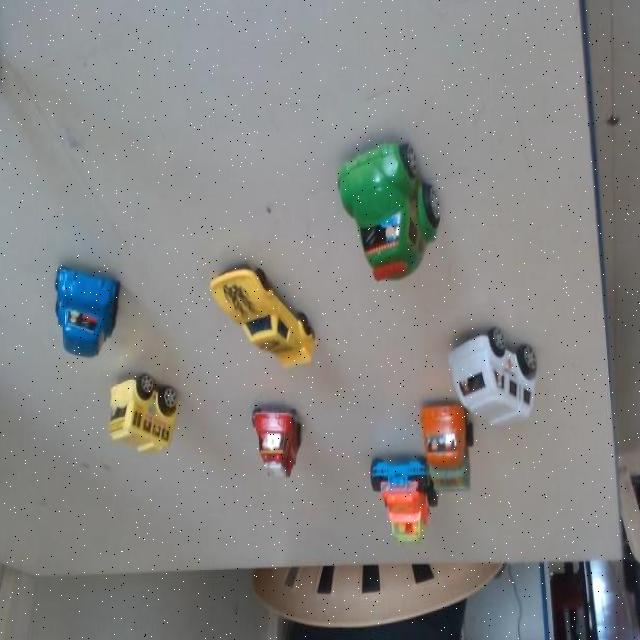car: (336, 147, 446, 278), (447, 320, 540, 435), (214, 268, 318, 364), (357, 454, 434, 550), (111, 369, 187, 454), (418, 395, 478, 500), (52, 266, 120, 356), (250, 394, 313, 484)
